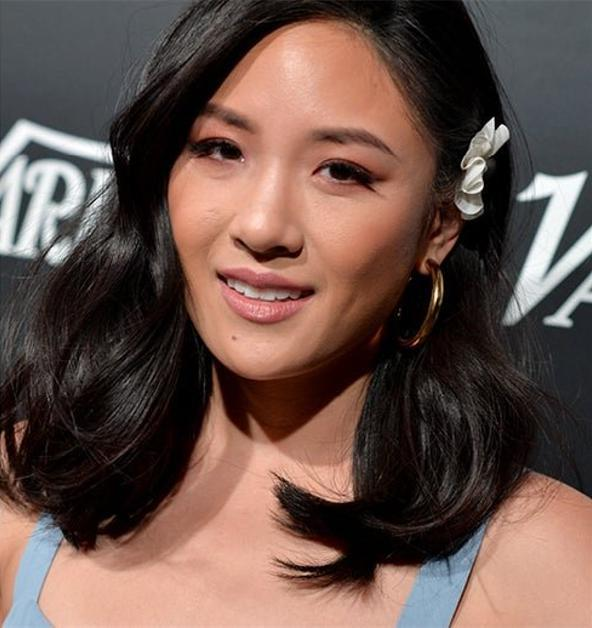Sober: (165, 43, 436, 392)
